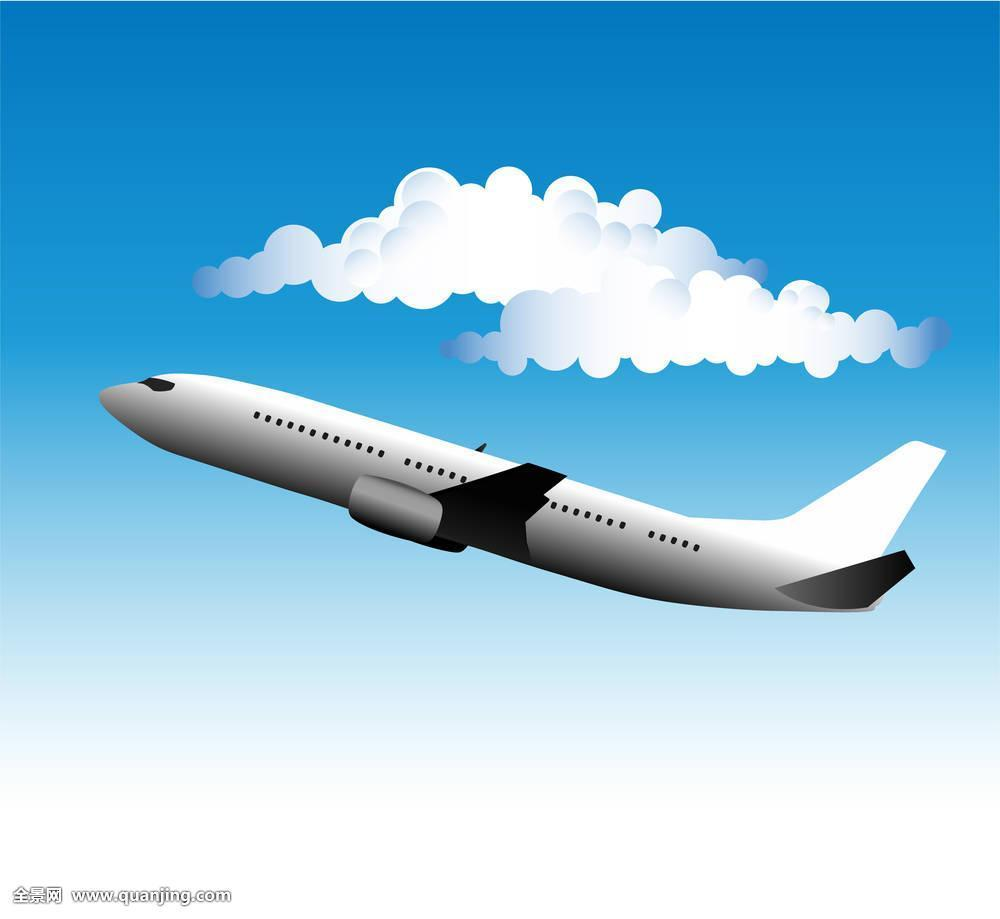airplane: (86, 355, 950, 637)
